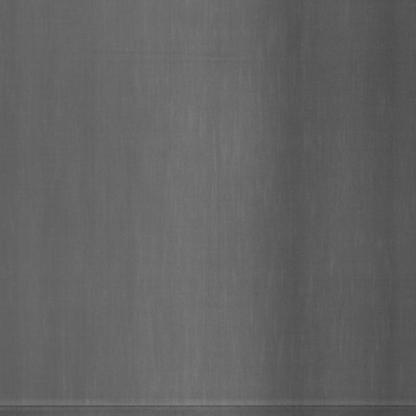welding_line: (0, 394, 416, 413)
